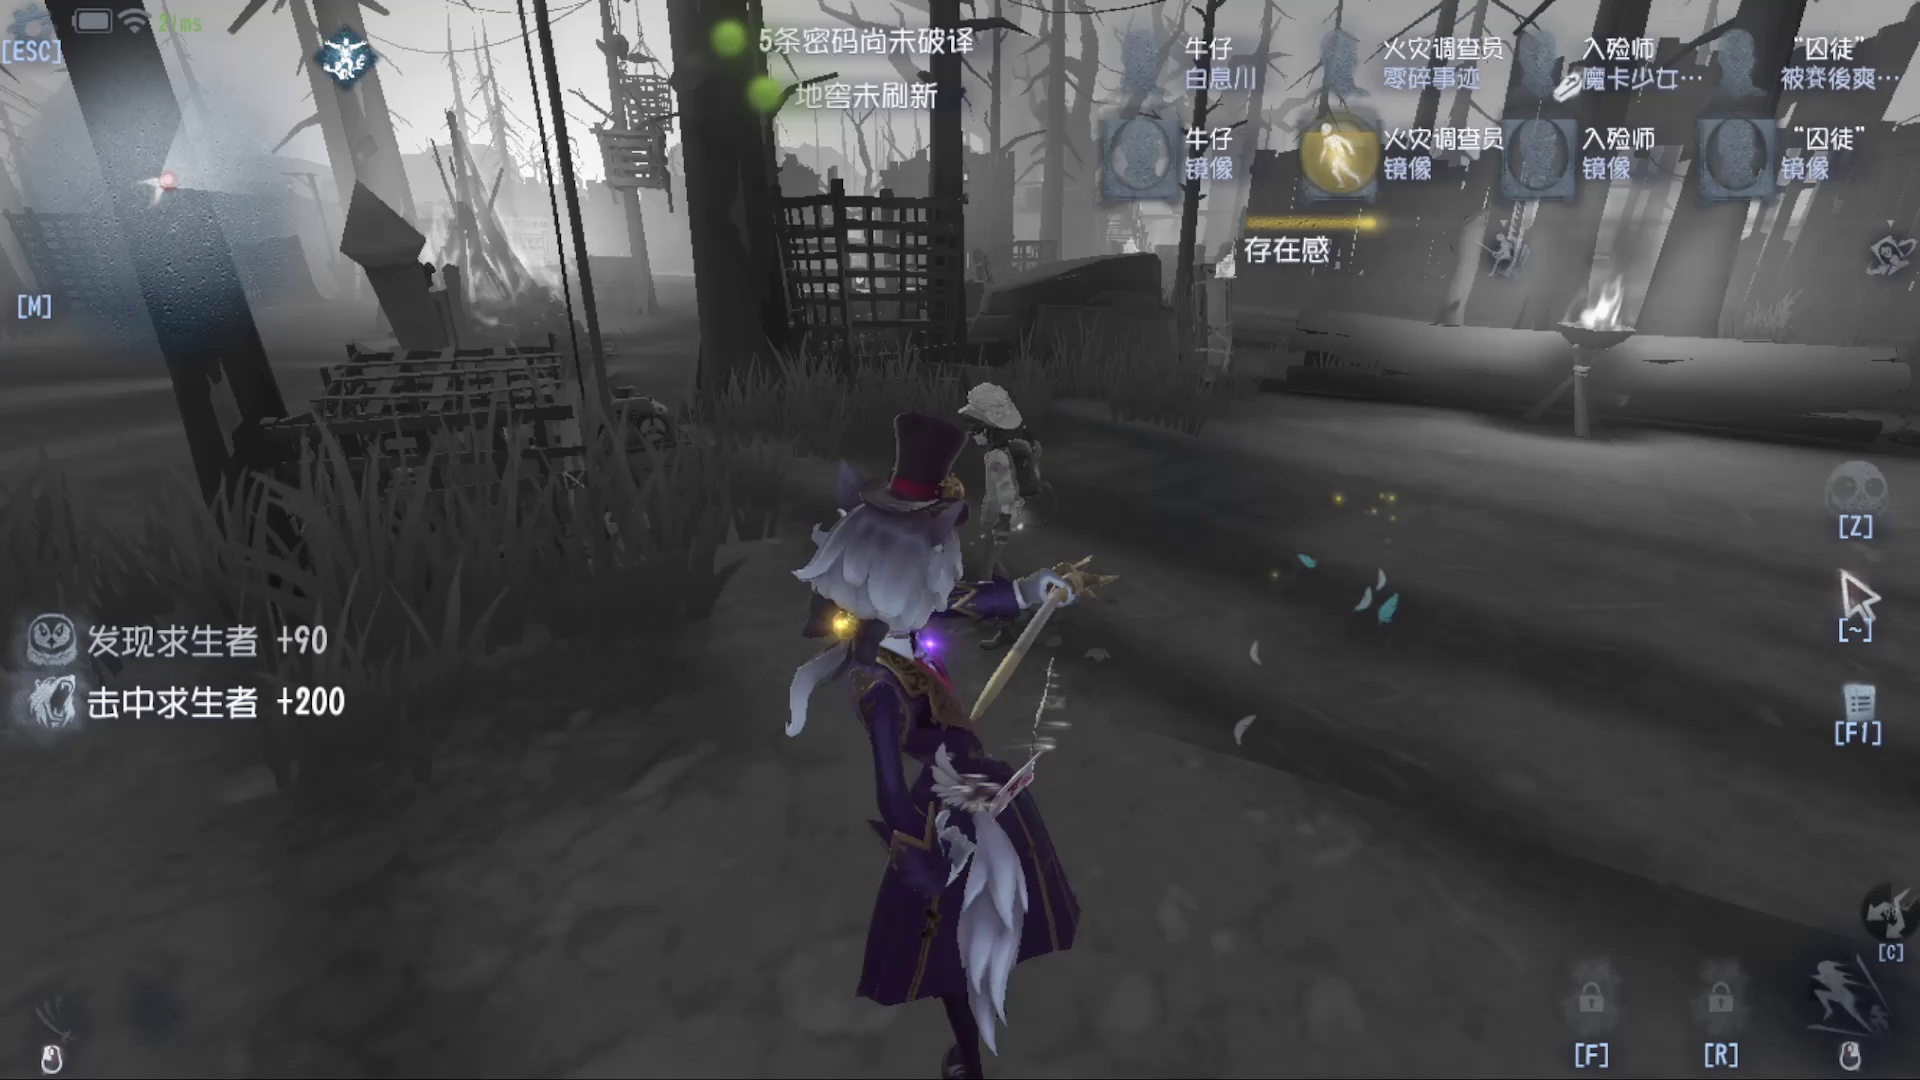木板: (1182, 257, 1247, 382)
求生者: (535, 335, 732, 545), (963, 381, 1065, 543)
